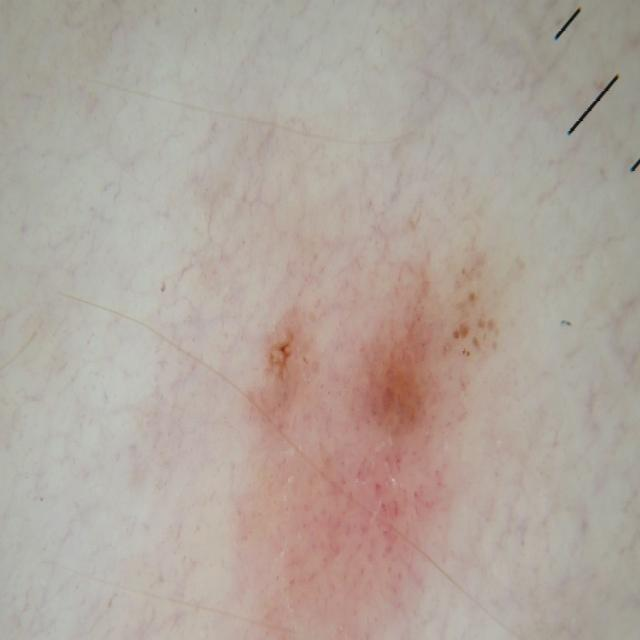Melanoma: (184, 205, 536, 631)
